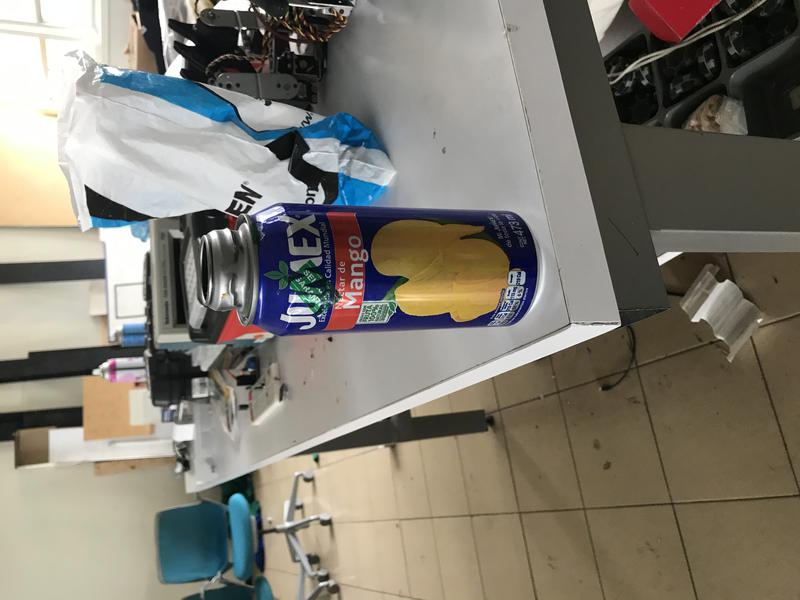jumex_botella: (197, 203, 545, 336)
